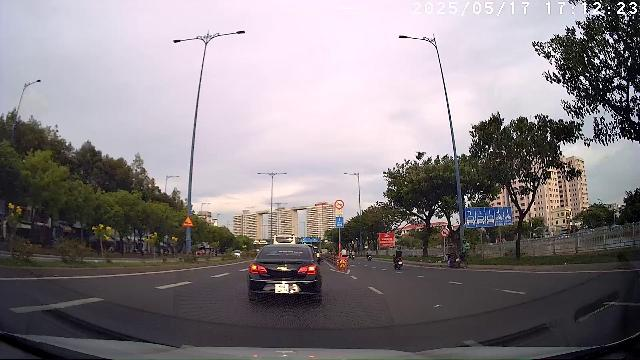103a-cam-oto: (440, 229, 450, 237)
